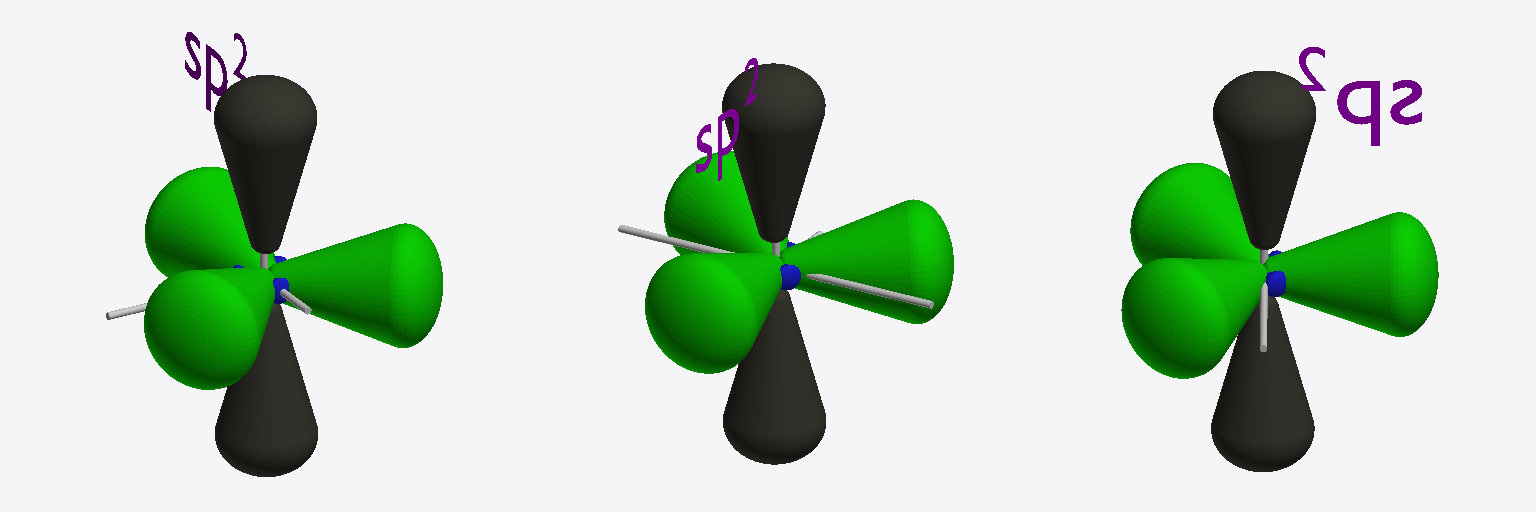
3 views of the same model, side by side, from view 1: azimuth 30°, elevation 25°; view 2: azimuth 150°, elevation 25°; view 3: azimuth 270°, elevation 25° (orthographic).
Visible parts, largest first — view 1: suborbital_p.003_suborbital_p.061, suborbital_p.005_suborbital_p.063, suborbital_p.009_suborbital_p.067, suborbital_p.008_suborbital_p.066, suborbital_p.007_suborbital_p.065, Text_Text.081; view 2: suborbital_p.005_suborbital_p.063, suborbital_p.007_suborbital_p.065, suborbital_p.009_suborbital_p.067, suborbital_p.008_suborbital_p.066, suborbital_p.003_suborbital_p.061, Cylinder.001_Cylinder.273, Text_Text.081; view 3: suborbital_p.007_suborbital_p.065, suborbital_p.003_suborbital_p.061, suborbital_p.009_suborbital_p.067, suborbital_p.008_suborbital_p.066, suborbital_p.005_suborbital_p.063, Text_Text.081.
Boxes of the visible parts, x1=… form: suborbital_p.003_suborbital_p.061: x1=269, y1=223, x2=442, y2=347; suborbital_p.005_suborbital_p.063: x1=144, y1=267, x2=274, y2=389; suborbital_p.009_suborbital_p.067: x1=214, y1=75, x2=316, y2=253; suborbital_p.008_suborbital_p.066: x1=215, y1=303, x2=317, y2=476; suborbital_p.007_suborbital_p.065: x1=145, y1=167, x2=275, y2=276; Text_Text.081: x1=185, y1=32, x2=227, y2=111; suborbital_p.005_suborbital_p.063: x1=779, y1=199, x2=953, y2=323; suborbital_p.007_suborbital_p.065: x1=645, y1=253, x2=783, y2=373; suborbital_p.009_suborbital_p.067: x1=722, y1=63, x2=825, y2=242; suborbital_p.008_suborbital_p.066: x1=723, y1=290, x2=825, y2=464; suborbital_p.003_suborbital_p.061: x1=664, y1=151, x2=788, y2=254; Cylinder.001_Cylinder.273: x1=618, y1=225, x2=933, y2=308; Text_Text.081: x1=696, y1=109, x2=738, y2=180; suborbital_p.007_suborbital_p.065: x1=1263, y1=212, x2=1438, y2=336; suborbital_p.003_suborbital_p.061: x1=1121, y1=258, x2=1266, y2=378; suborbital_p.009_suborbital_p.067: x1=1213, y1=71, x2=1315, y2=249; suborbital_p.008_suborbital_p.066: x1=1211, y1=295, x2=1314, y2=471; suborbital_p.005_suborbital_p.063: x1=1130, y1=163, x2=1268, y2=265; Text_Text.081: x1=1337, y1=80, x2=1421, y2=145.
Bounding box in the file's own units: 3.42 × 4.39 × 3.01.